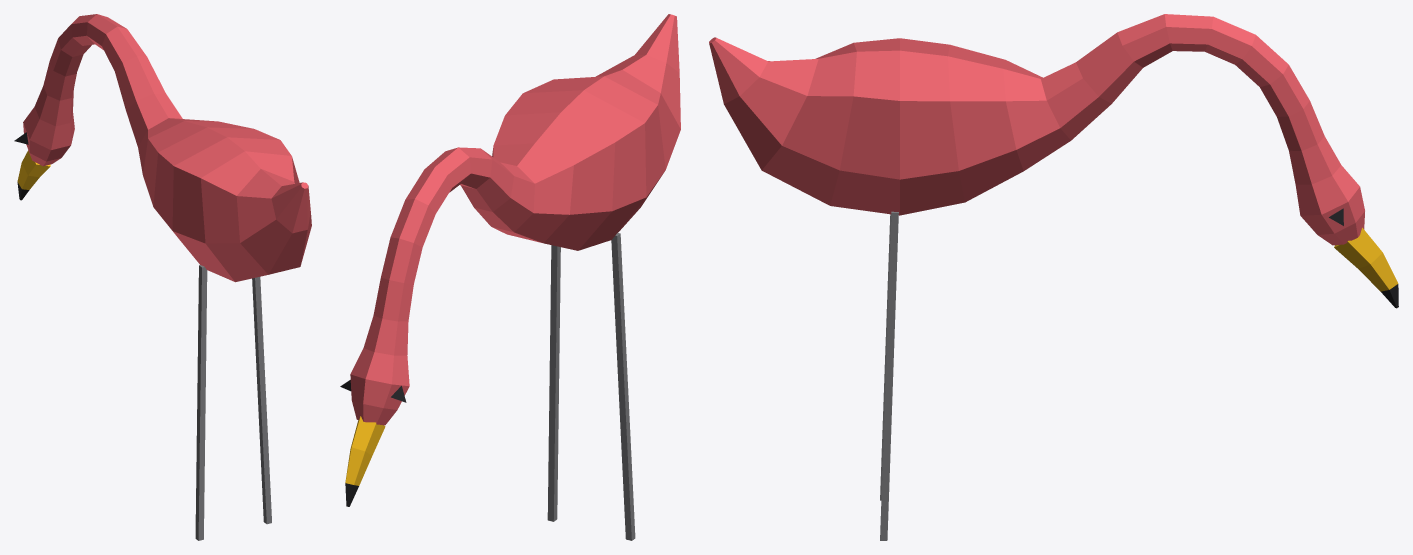
Rendered from flamingo-b.glb.
3 renders of one model, left to right at view 1: azimuth 30°, elevation 25°; view 2: azimuth 150°, elevation 25°; view 3: azimuth 270°, elevation 25°, orthographic. The views are drawn at different scales.
Parts seen in each view (by area): view 1: FlamingoDown; view 2: FlamingoDown; view 3: FlamingoDown.
Boxes of the visible parts, x1,y1,x2,y2 form: FlamingoDown: (14, 14, 311, 540); FlamingoDown: (340, 14, 680, 540); FlamingoDown: (709, 14, 1398, 540).
Size of the model in its own units: 0.1599 by 0.5865 by 0.7255.
